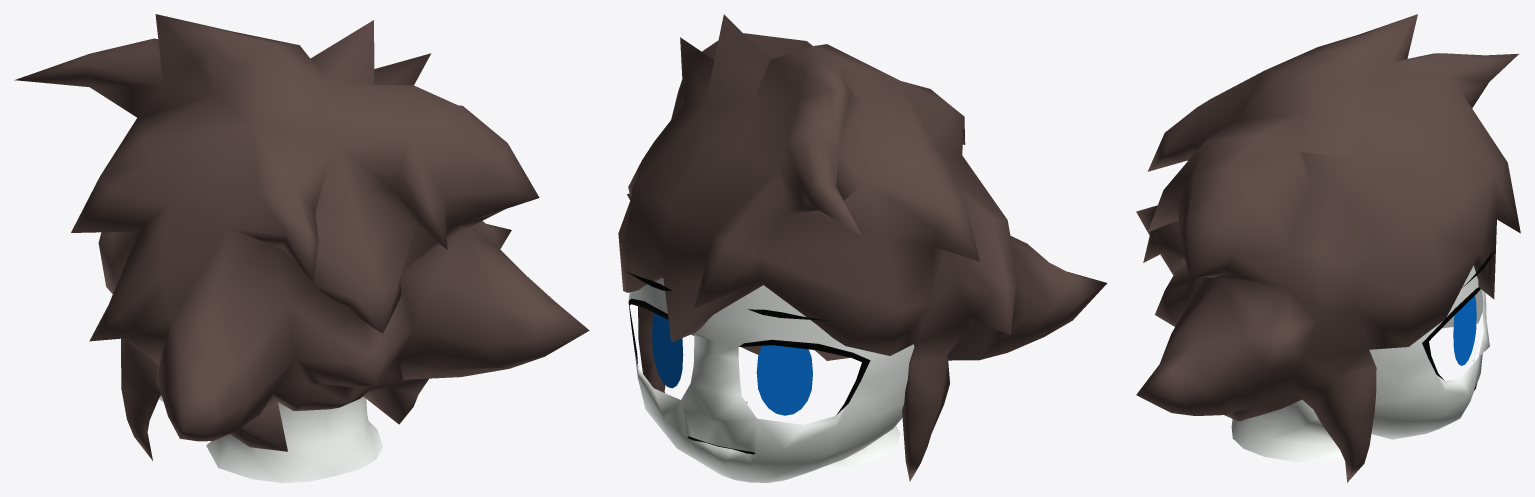
Rendered from colin.glb.
3 views of the same model, side by side, from view 1: azimuth 30°, elevation 25°; view 2: azimuth 150°, elevation 25°; view 3: azimuth 270°, elevation 25° (orthographic). The views are drawn at different scales.
Visible parts, largest first — view 1: Colin; view 2: Colin; view 3: Colin.
Boxes of the visible parts, bbox=[...] form: Colin: bbox=[14, 14, 589, 482]; Colin: bbox=[618, 14, 1107, 482]; Colin: bbox=[1136, 14, 1520, 482].
Bounding box in the file's own units: 2.58 × 2.49 × 2.29.
6 materials, 6 textured.
